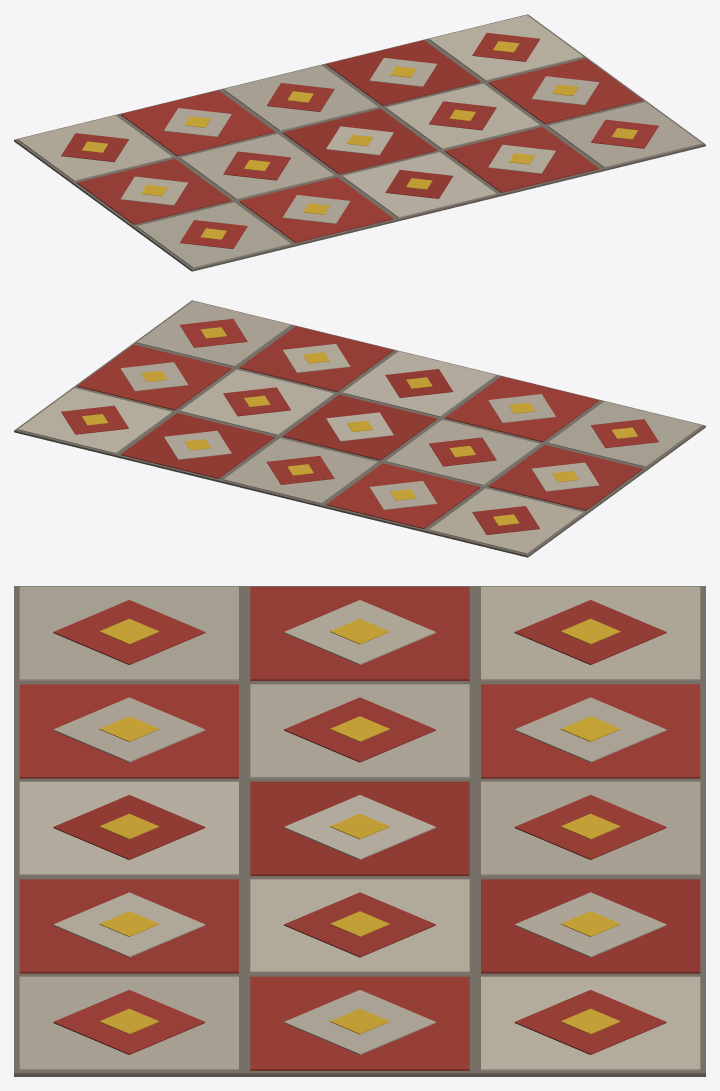
Rendered from Decor_FoodTruck_Paving.fbx.
3 views of the same model, one above another, from view 1: azimuth 30°, elevation 25°; view 2: azimuth 150°, elevation 25°; view 3: azimuth 270°, elevation 25° (orthographic). The views are drawn at different scales.
Visible parts, largest first — view 1: Paving_Body; view 2: Paving_Body; view 3: Paving_Body.
Boxes of the visible parts, left/top/right/bottom form: Paving_Body: left=14, top=14, right=705, bottom=271; Paving_Body: left=14, top=300, right=705, bottom=557; Paving_Body: left=14, top=586, right=705, bottom=1076.
Bounding box in the file's own units: 30 × 0.2 × 18.
